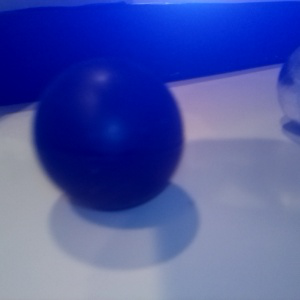alive_ball: (276, 45, 300, 126)
dead_ball: (32, 56, 184, 211)
